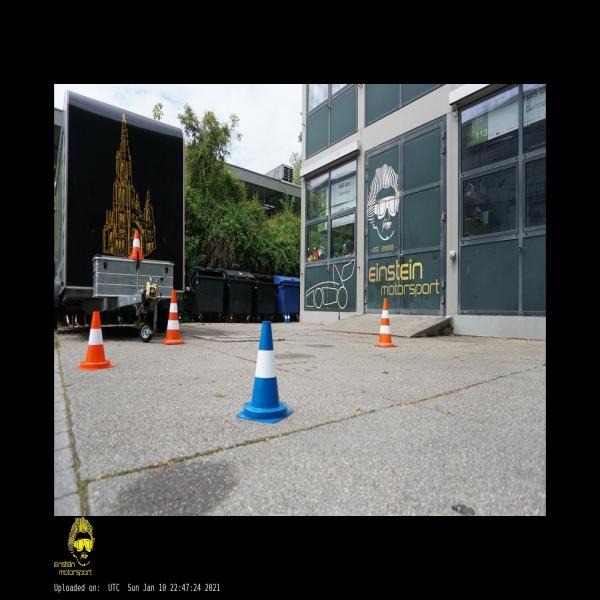blue_cone: (236, 321, 294, 424)
large_orange_cone: (162, 290, 184, 344), (374, 298, 397, 347)
orange_cone: (76, 312, 115, 371), (129, 230, 144, 260)
